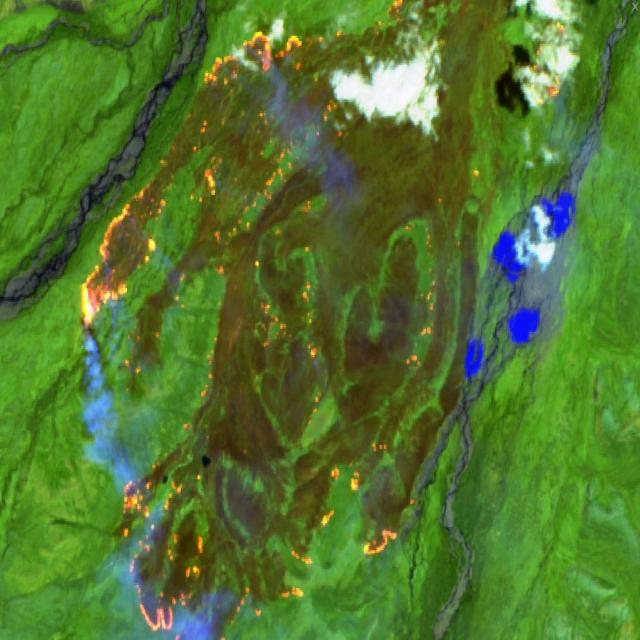fire: (71, 0, 574, 640)
